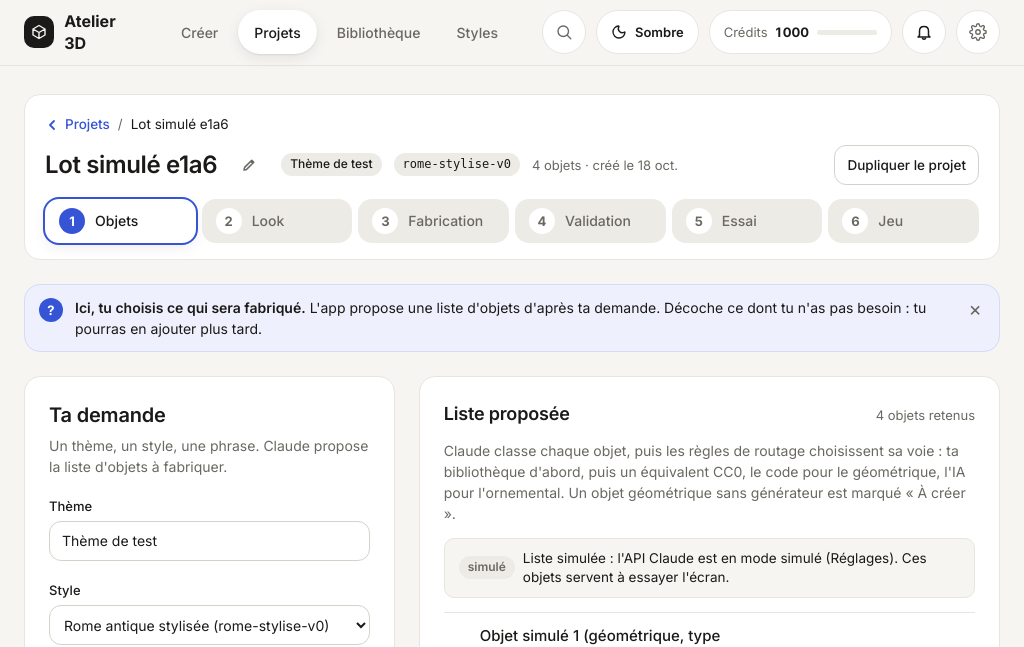
Scenario: En-tête de projet › renommer envoie PATCH {nom} ; Dupliquer ouvre la copie
Click the button named "Renommer le projet" at coordinates (249, 165), box 229,145 -> 269,185
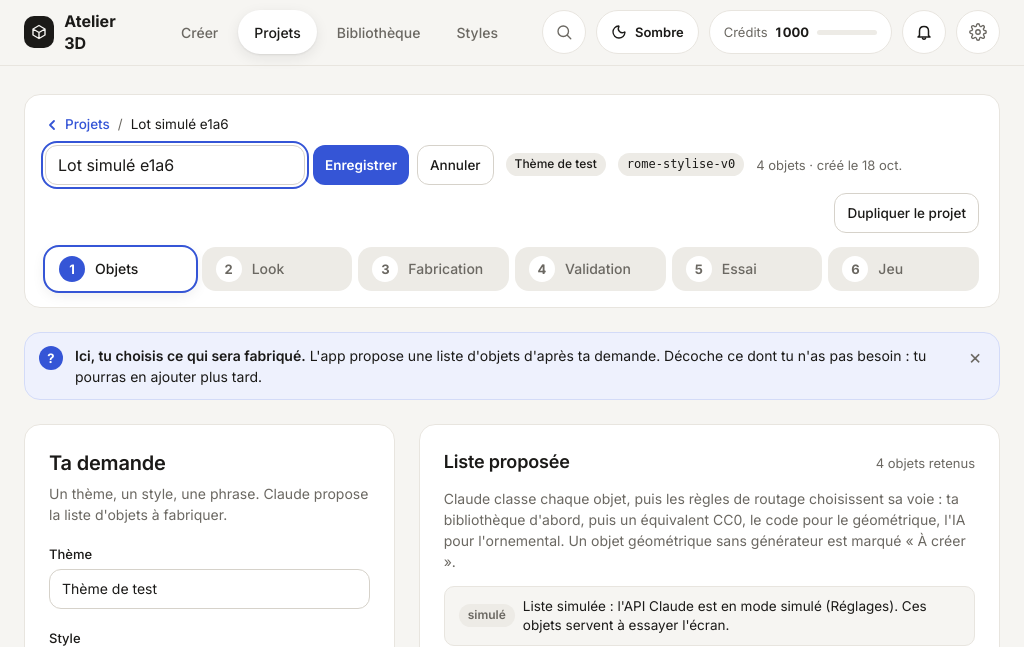
Replace the text in the field named "Nom du projet" with "Mon lot" at coordinates (175, 165), box 45,145 -> 305,185
Then press Enter
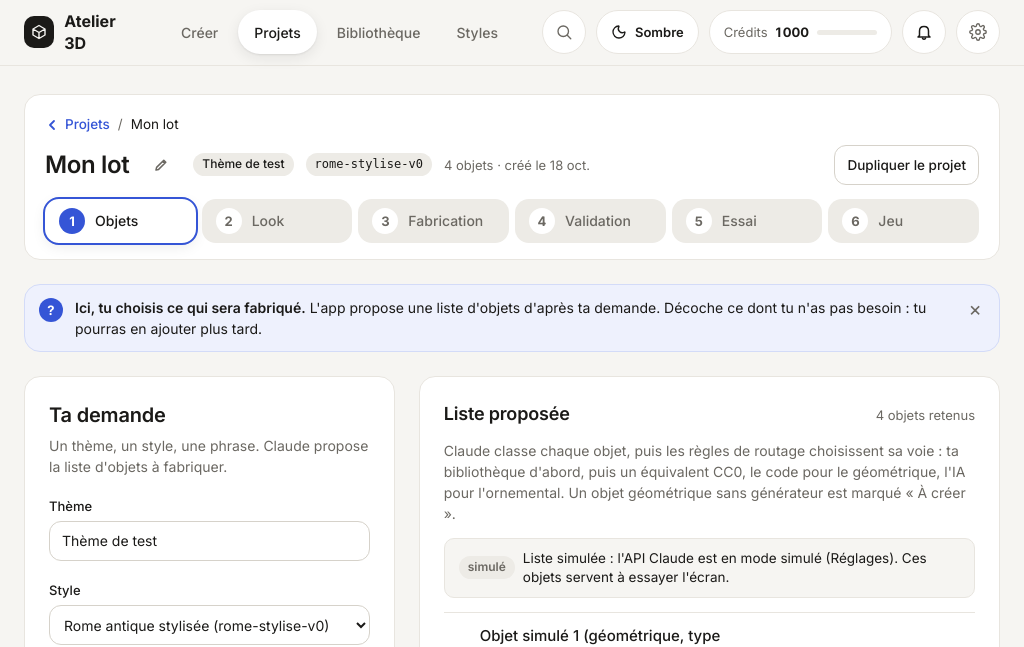
Expected: the heading "Mon lot" is shown, 45,148 -> 129,182
Click the button "Dupliquer le projet" at coordinates (907, 165), box 834,145 -> 979,185
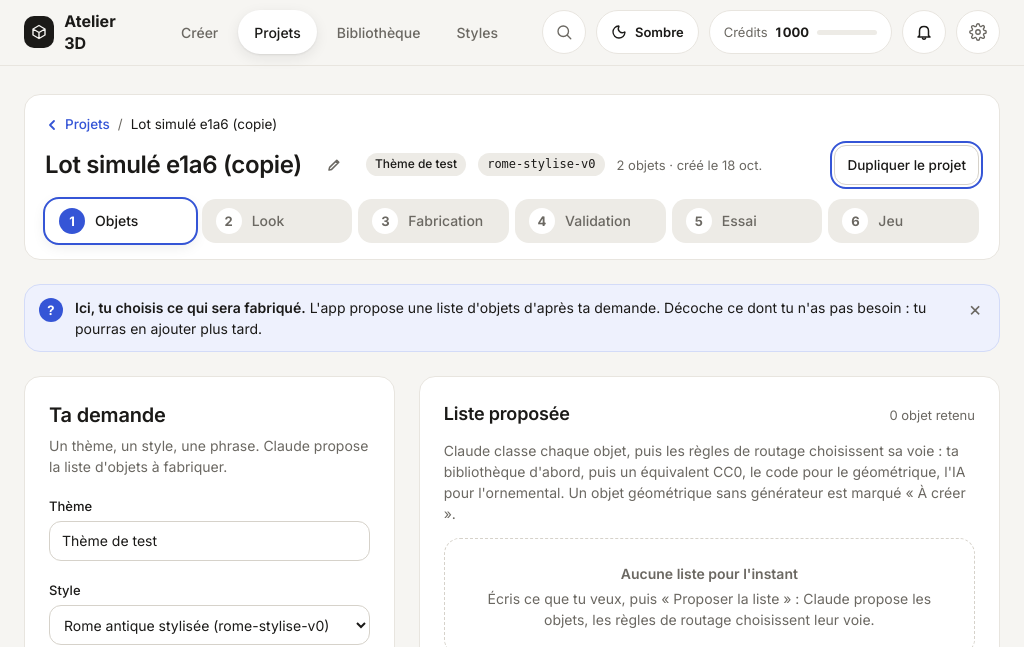
Expected: the heading "Lot simulé e1a6 (copie)" is shown, 45,148 -> 302,182
